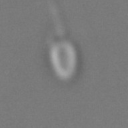normal: (43, 1, 73, 41)
